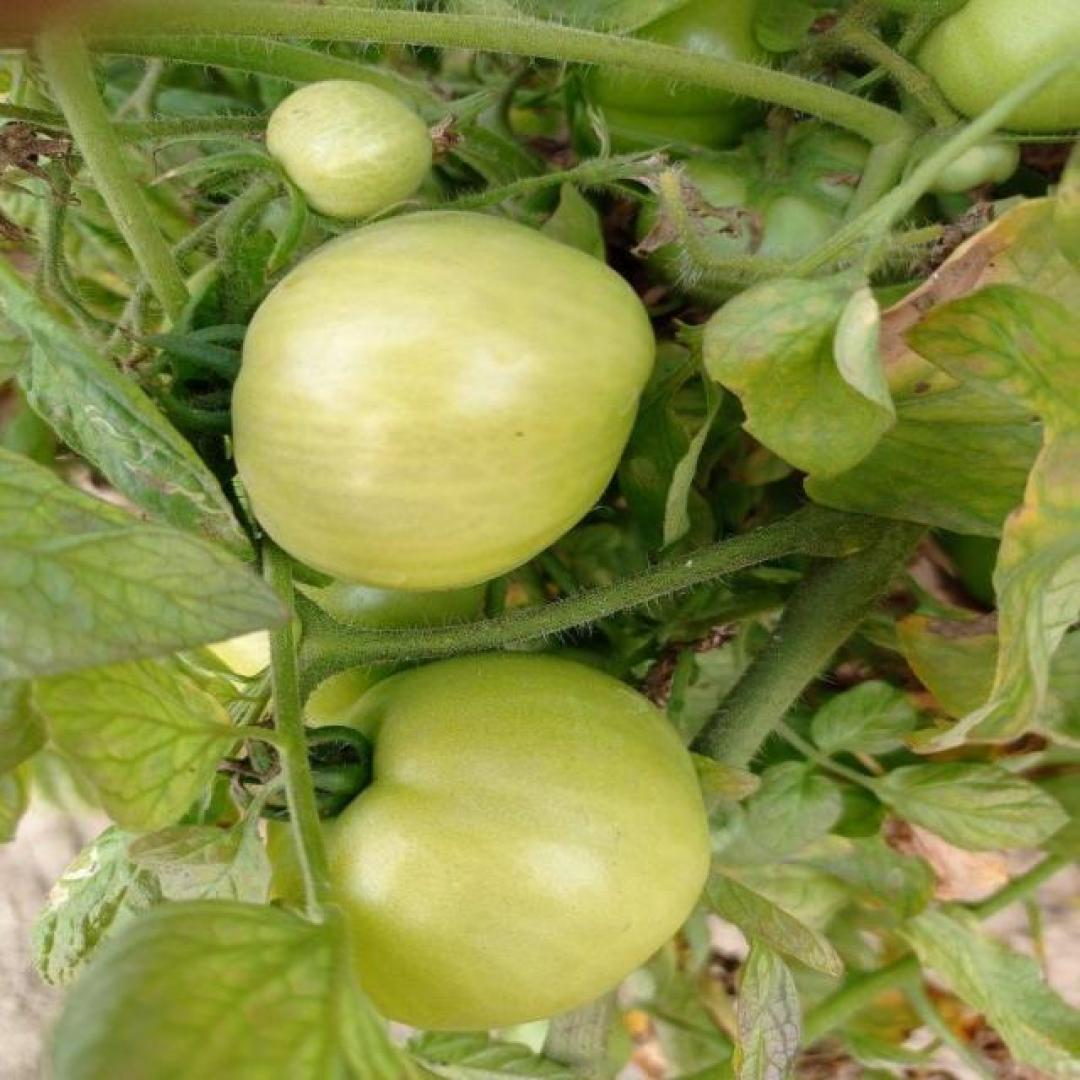mentah: (257, 646, 717, 1033), (228, 210, 653, 592), (262, 78, 434, 216)
